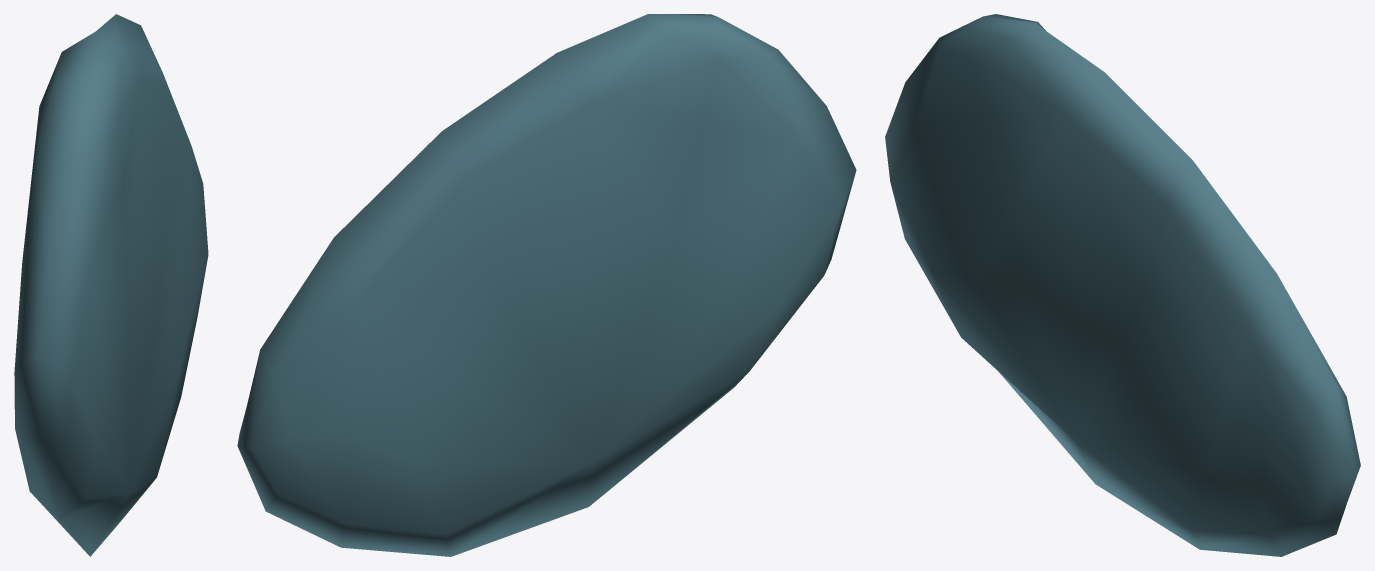
Rendered from Flexor_digitorum_profundus_1st_finger_distal_phalanx_right.glb.
The picture shows the model from 3 angles, left to right: view 1: azimuth 30°, elevation 25°; view 2: azimuth 150°, elevation 25°; view 3: azimuth 270°, elevation 25°; orthographic projection. The views are drawn at different scales.
Parts seen in each view (by area): view 1: Flexor_digitorum_profundus_on_distal_phalanx_of_1st_finger.r; view 2: Flexor_digitorum_profundus_on_distal_phalanx_of_1st_finger.r; view 3: Flexor_digitorum_profundus_on_distal_phalanx_of_1st_finger.r.
Boxes of the visible parts, x1,y1,x2,y2 form: Flexor_digitorum_profundus_on_distal_phalanx_of_1st_finger.r: [14, 14, 208, 556]; Flexor_digitorum_profundus_on_distal_phalanx_of_1st_finger.r: [237, 14, 856, 556]; Flexor_digitorum_profundus_on_distal_phalanx_of_1st_finger.r: [885, 14, 1360, 556].
Bounding box in the file's own units: 0.00281 × 0.00359 × 0.00325.
